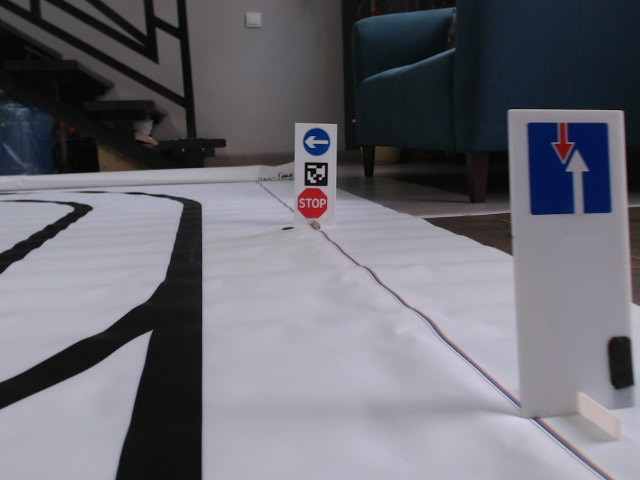Stop: (296, 187, 328, 218)
priority_movement: (526, 121, 612, 216)
